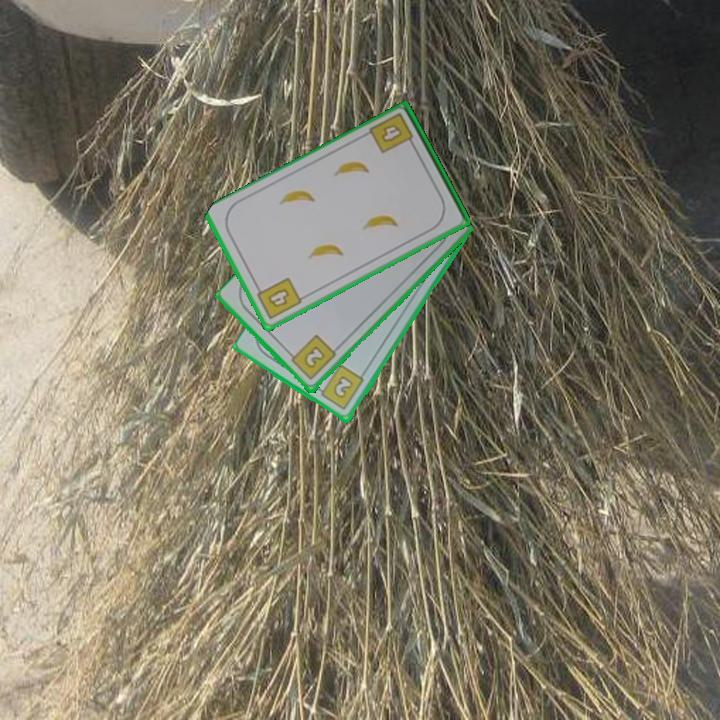2b: (313, 362, 367, 413), (285, 332, 339, 383)
4b: (252, 274, 305, 322), (366, 109, 418, 157)
